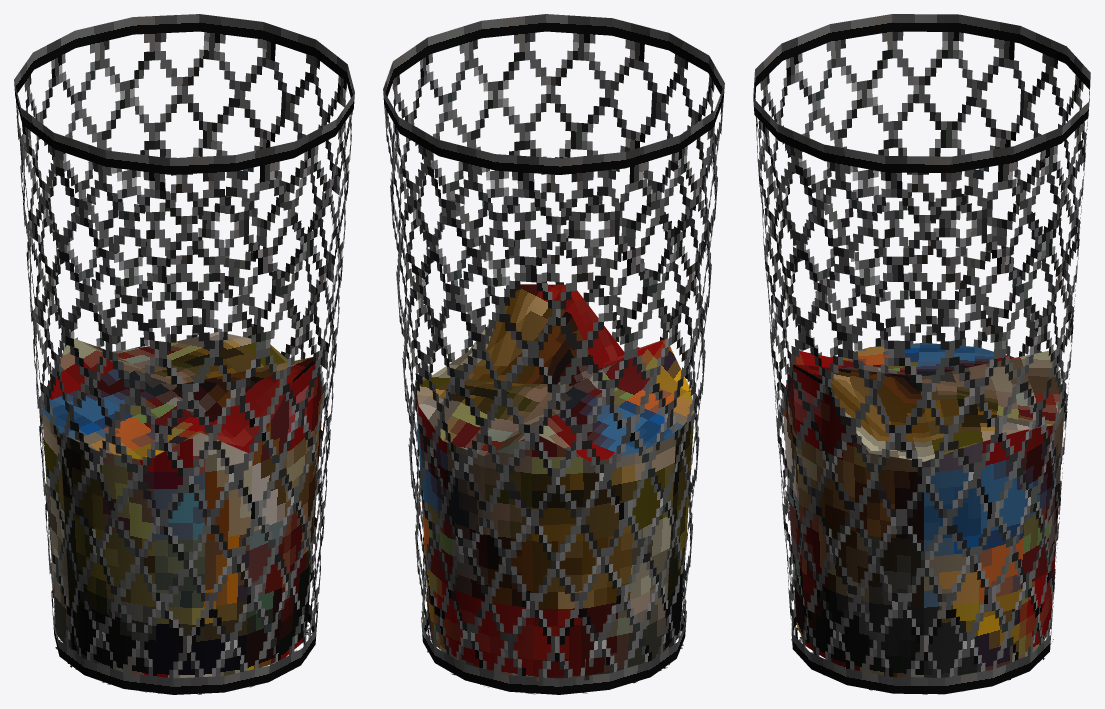
The model's file is LitterBin02.glb.
3 renders of one model, left to right at view 1: azimuth 30°, elevation 25°; view 2: azimuth 150°, elevation 25°; view 3: azimuth 270°, elevation 25°, orthographic.
Visible parts, largest first — view 1: LITTERBIN02; view 2: LITTERBIN02; view 3: LITTERBIN02.
Boxes of the visible parts, left/top/right/bottom form: LITTERBIN02: left=14, top=14, right=354, bottom=694; LITTERBIN02: left=383, top=14, right=724, bottom=694; LITTERBIN02: left=753, top=14, right=1090, bottom=694.
Size of the model in its own units: 0.563 by 1.02 by 0.563.
Materials: 2 (2 with a texture image).
